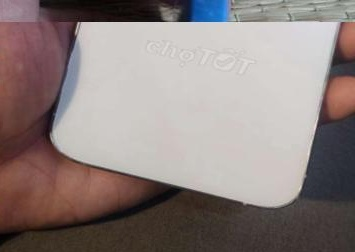scratch: (116, 0, 282, 22)
